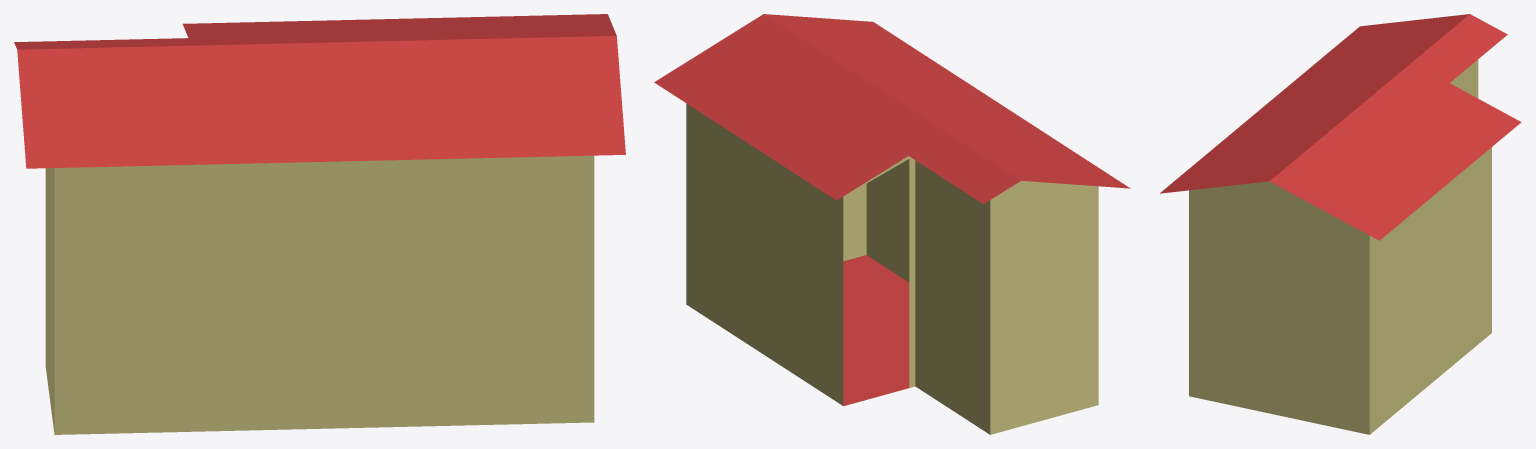
3 renders of one model, left to right at view 1: azimuth 30°, elevation 25°; view 2: azimuth 150°, elevation 25°; view 3: azimuth 270°, elevation 25°, orthographic. The views are drawn at different scales.
Bounding box in the file's own units: 17.23 × 12.3 × 9.09.
